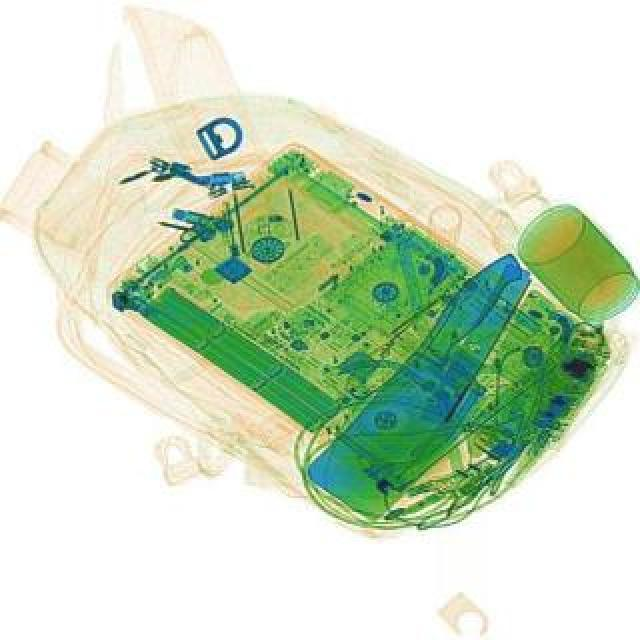knife: (298, 242, 574, 526)
